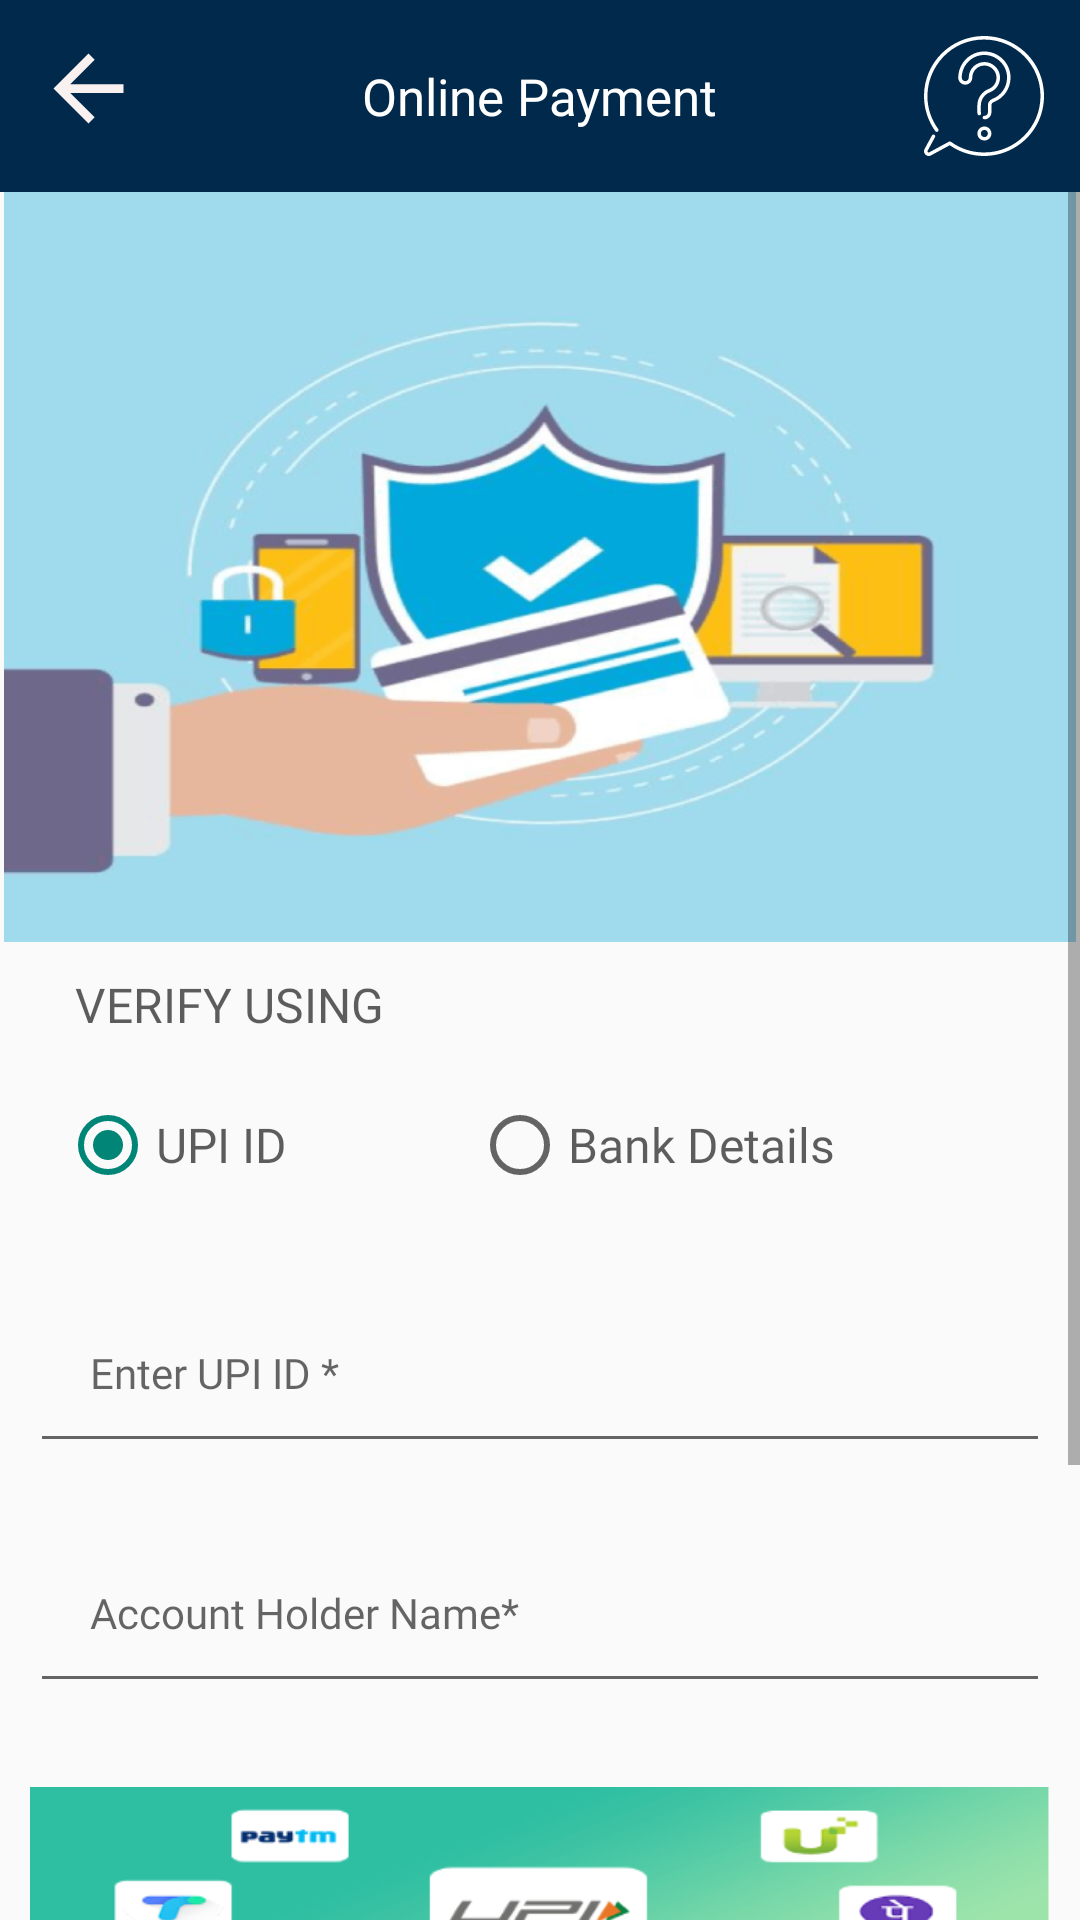

Icon bounding boxes for this 1080px x 1920px phone screenshot, format (x1, y1, x2, y2):
arrow back: (53, 53, 124, 124)
question: (924, 36, 1044, 156)
